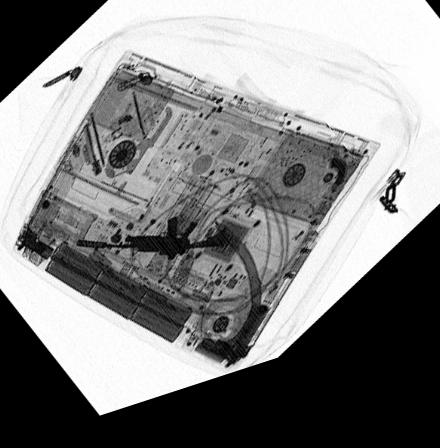Gun: (75, 228, 228, 274)
